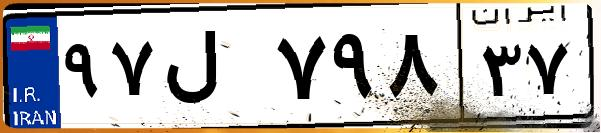3: (475, 38, 525, 113)
7: (270, 28, 330, 110), (525, 38, 570, 115), (110, 28, 158, 98)
8: (385, 28, 445, 110)
9: (330, 28, 385, 110), (57, 26, 110, 100)
ل: (158, 20, 270, 120)
